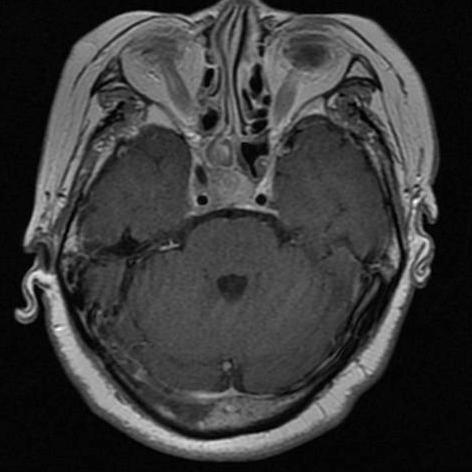Tumour-Pituitary: (193, 162, 280, 216)
